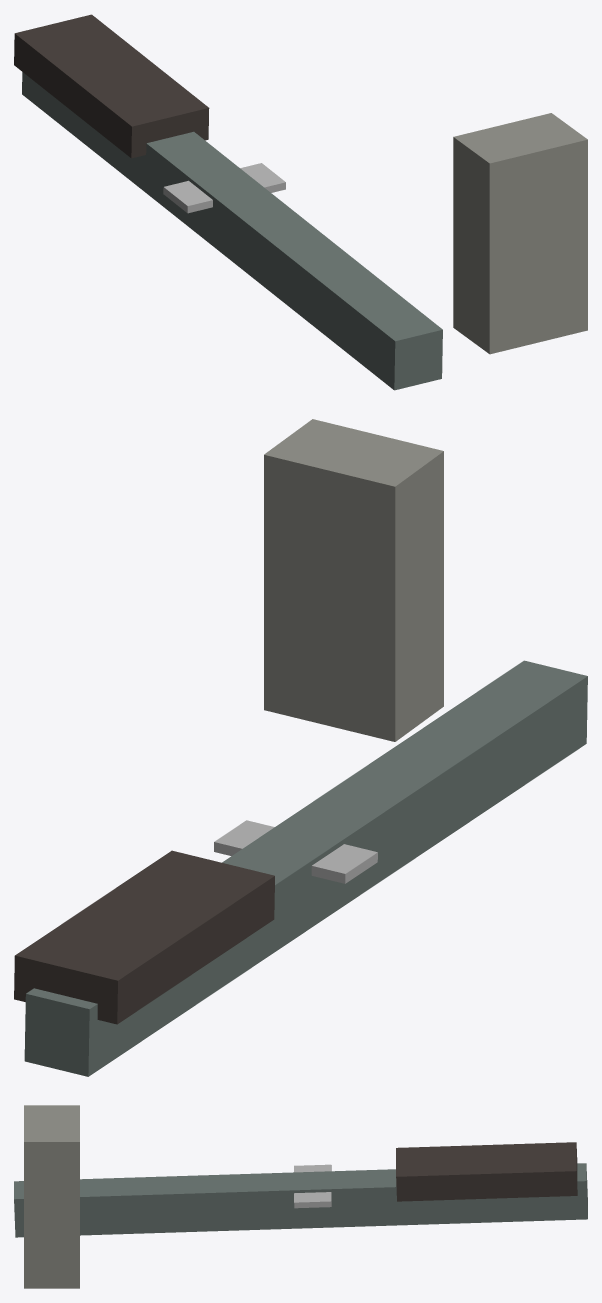
File: SM_senal_via_v3_LOD1.fbx
3 views of the same model, one above another, from view 1: azimuth 30°, elevation 25°; view 2: azimuth 150°, elevation 25°; view 3: azimuth 270°, elevation 25° (orthographic). The views are drawn at different scales.
Visible parts, largest first — view 1: SM_bloques.senal_via_v3_LOD1; view 2: SM_bloques.senal_via_v3_LOD1; view 3: SM_bloques.senal_via_v3_LOD1.
Part boxes in pixels (bbox=[...]): SM_bloques.senal_via_v3_LOD1: bbox=[14, 14, 587, 390]; SM_bloques.senal_via_v3_LOD1: bbox=[14, 419, 587, 1076]; SM_bloques.senal_via_v3_LOD1: bbox=[14, 1105, 587, 1288].
Size of the model in its own units: 1.6 by 1.35 by 4.61.
